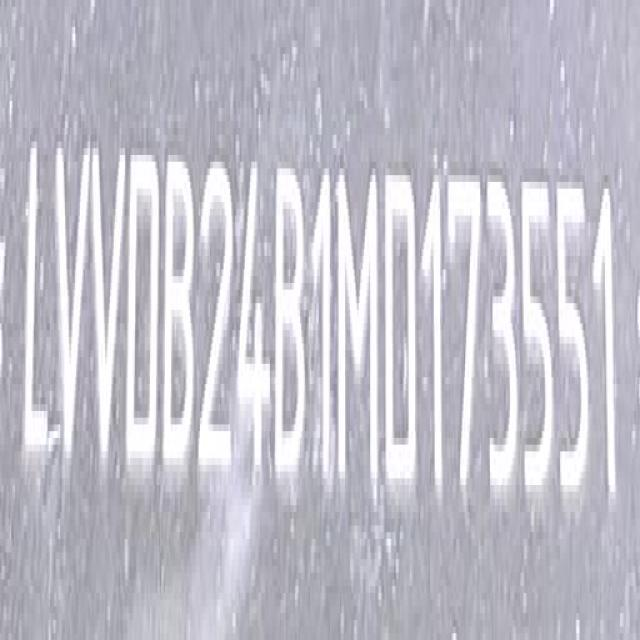1: (311, 162, 335, 501), (598, 188, 621, 512), (424, 162, 445, 508)
2: (202, 158, 237, 486)
3: (490, 170, 520, 508)
4: (236, 161, 270, 494)
5: (558, 182, 591, 508), (523, 176, 555, 508)
7: (453, 165, 482, 512)
B: (163, 151, 197, 481), (276, 168, 306, 494)
D: (388, 167, 420, 510), (129, 142, 161, 479)
L: (23, 130, 53, 467)
M: (336, 159, 383, 506)
V: (90, 134, 128, 482), (51, 132, 87, 476)
